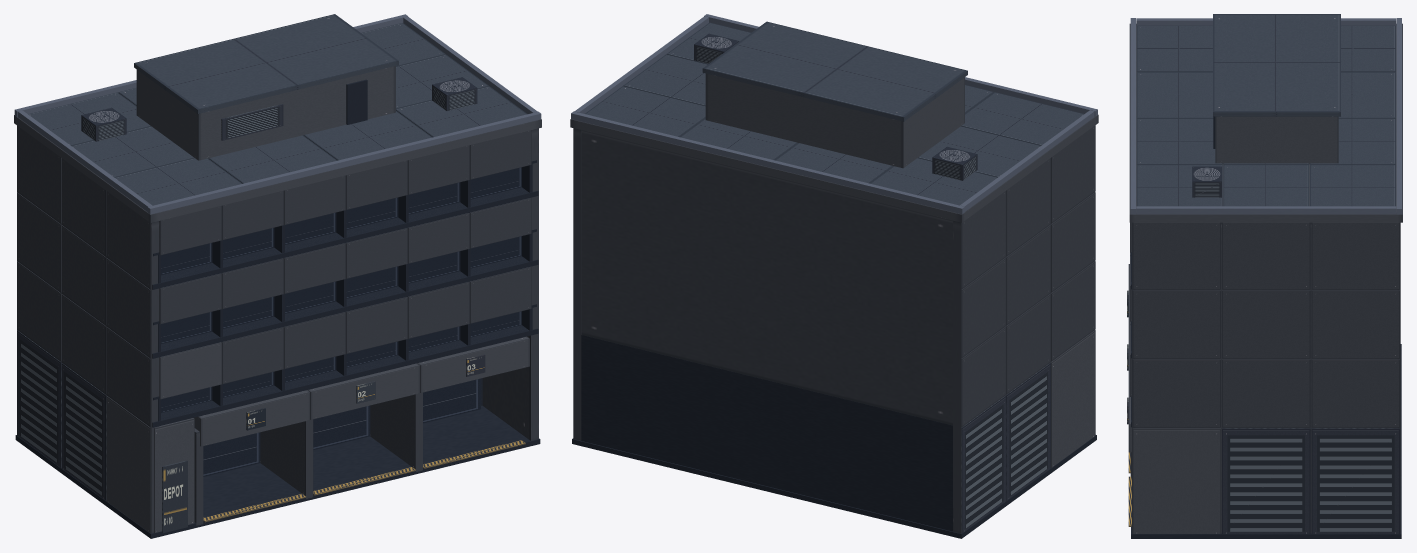
File: depot_all.glb
3 views of the same model, side by side, from view 1: azimuth 30°, elevation 25°; view 2: azimuth 150°, elevation 25°; view 3: azimuth 270°, elevation 25° (orthographic).
Visible parts, largest first — view 1: Architecture, Bay_3_Interior, Bay_1_Interior, Bay_2_Interior, Window_03_04, Window_02_04, Window_02_05, Window_03_05, Window_02_03, Window_02_06, Window_02_02, Window_03_03 (+10 smaller); view 2: Architecture; view 3: Architecture.
Part boxes in pixels (box(x1,y1,x2,y2)): Architecture: box(14, 14, 541, 538); Bay_3_Interior: box(423, 378, 480, 423); Bay_1_Interior: box(203, 432, 260, 476); Bay_2_Interior: box(313, 405, 370, 449); Window_03_04: box(346, 197, 398, 229); Window_02_04: box(346, 266, 398, 298); Window_02_05: box(408, 251, 460, 283); Window_03_05: box(408, 182, 460, 214); Window_02_03: box(285, 281, 336, 313); Window_02_06: box(470, 236, 521, 268); Window_02_02: box(223, 296, 274, 328); Window_03_03: box(285, 212, 336, 244); Architecture: box(570, 14, 1098, 538); Architecture: box(1127, 14, 1402, 538).
Bounding box in the file's own units: 15.16 × 13.98 × 9.25.
Materials: 1 (1 with a texture image).
